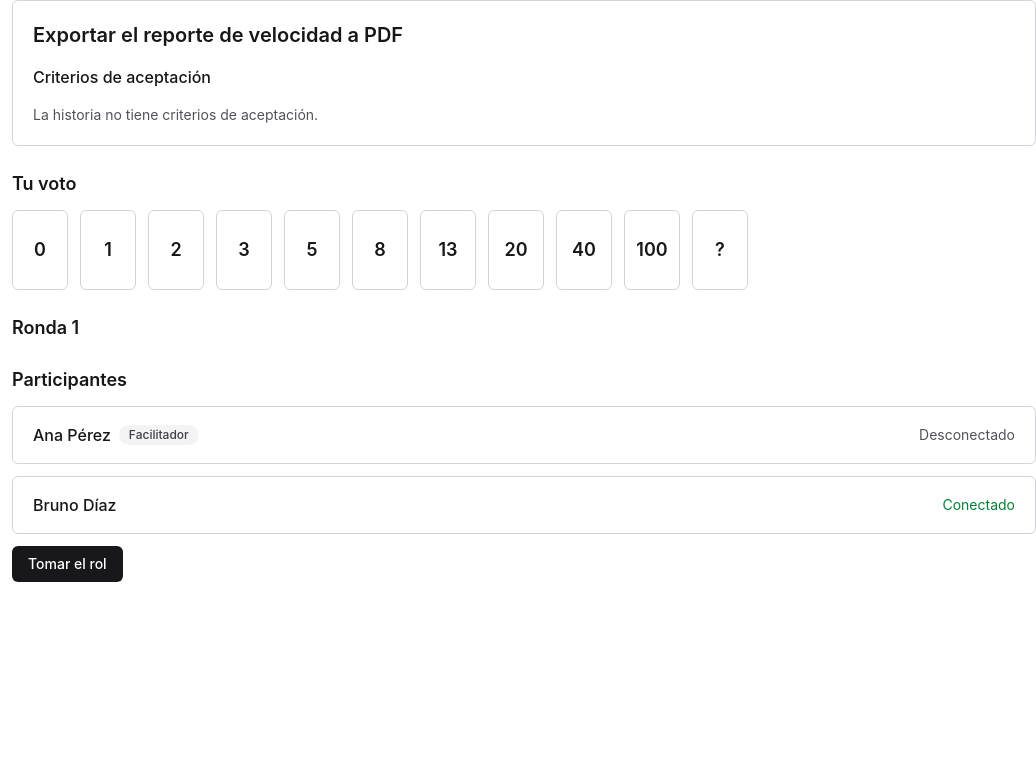
Test: 005/US6 - Sobrevivir a las desconexiones y relevar al facilitador › Rol todavía no disponible
Expected: the heading "Participantes" is shown, x1=12 y1=369 x2=127 y2=390
Click the button "Tomar el rol" at (67,564), box x1=12 y1=546 x2=123 y2=582
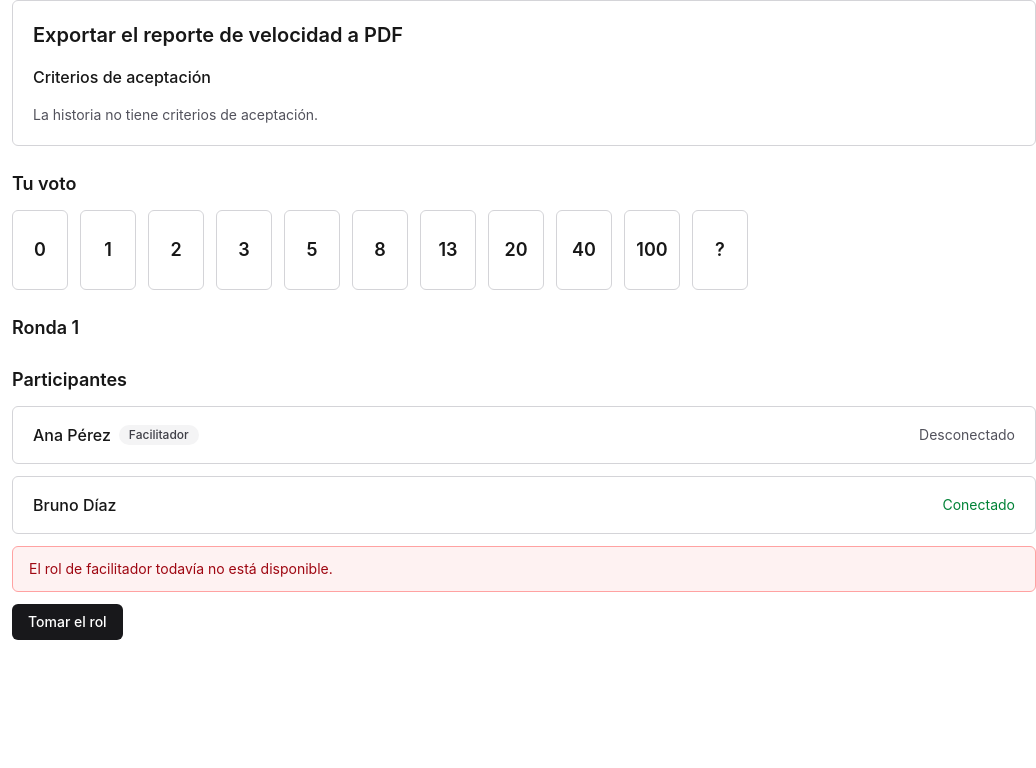
Result: the message reads "El rol de facilitador todavía no está disponible." at x1=29 y1=560 x2=333 y2=577
